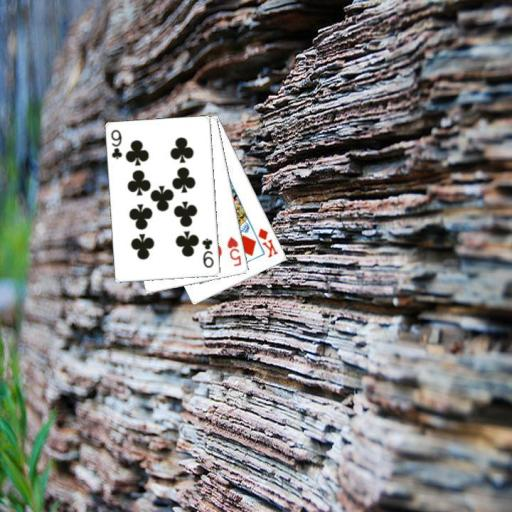5H: (224, 234, 243, 268)
9C: (199, 236, 216, 270), (108, 127, 124, 161)
KD: (256, 225, 280, 259)
